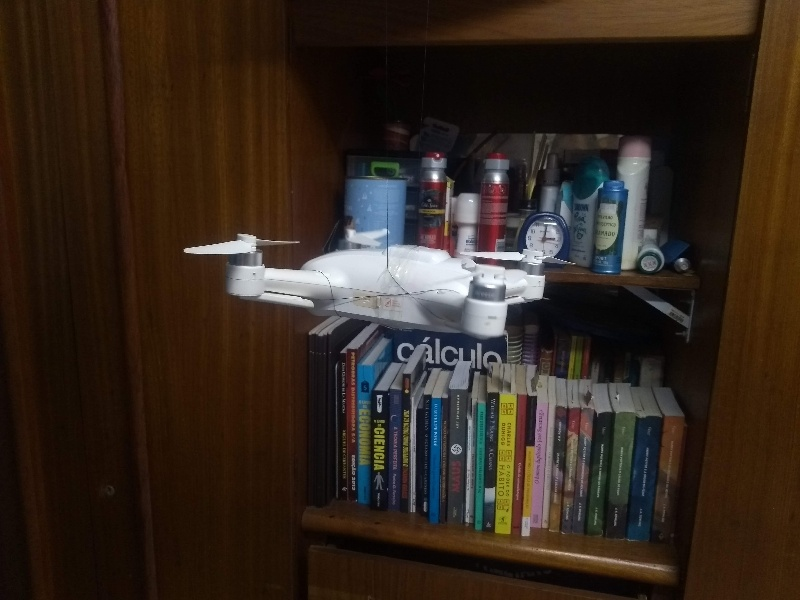drone: (181, 218, 578, 352)
